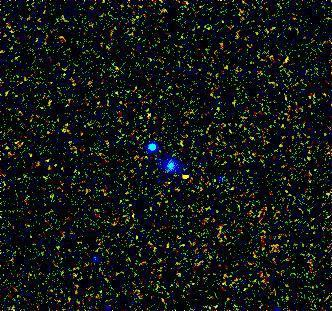star: (173, 161, 203, 191)
